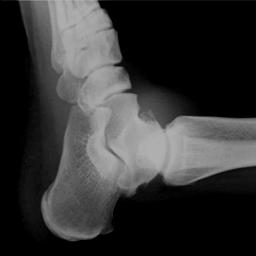cancer: (133, 109, 157, 126)
